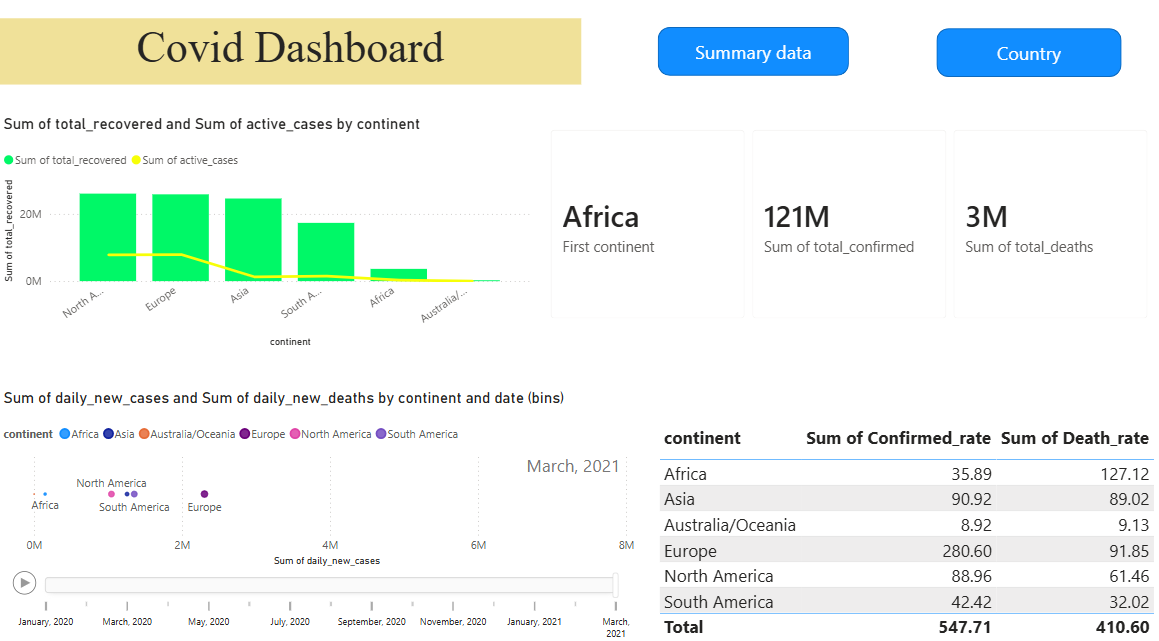

The dashboard page shown, as its layout file describes it:
{"tool":"powerbi","page":{"name":"Continent","canvas":[1280,720],"ordinal":1},"visuals":[{"type":"scatterChart","fields":{"Series":["summary_data.continent"],"X":["Sum(daily_data.daily_new_cases)"],"Size":["Sum(daily_data.daily_new_deaths)"],"Play":["daily_data.date (bins)"]},"box":[0,440.5,702.6,279.9],"z":0},{"type":"lineStackedColumnComboChart","fields":{"Category":["summary_data.continent"],"Y":["Sum(summary_data.total_recovered)"],"Y2":["Sum(summary_data.active_cases)"]},"box":[0,140,588.7,260.7],"z":1000},{"type":"cardVisual","fields":{"Data":["Min(summary_data.continent)","Sum(summary_data.total_confirmed)","Sum(summary_data.total_deaths)"]},"box":[588.7,140,691.6,241.5],"z":2000},{"type":"tableEx","fields":{"Values":["summary_data.continent","Sum(summary_data.Confirmed_rate)","Sum(summary_data.Death_rate)"]},"box":[719,474.8,561.2,245.6],"z":3000},{"type":"shape","box":[723.2,43.9,209.9,53.5],"z":4000},{"type":"shape","box":[1029.2,45.3,203.1,53.5],"z":4002},{"type":"textbox","box":[0,34.3,639.5,72.7],"z":4003}]}

Visuals, with their boxes in screenshot pixels (x1, y1, x2, y2), scaled from the page's 1280x720 canvas onto the 1159x641 screenshot:
scatterChart - summary_data.continent x Sum(daily_data.daily_new_cases): detection(0, 392, 636, 640)
lineStackedColumnComboChart - summary_data.continent x Sum(summary_data.total_recovered): detection(0, 125, 533, 357)
cardVisual - Min(summary_data.continent) x Sum(summary_data.total_confirmed): detection(533, 125, 1158, 340)
tableEx - summary_data.continent x Sum(summary_data.Confirmed_rate): detection(651, 423, 1158, 640)
shape: detection(655, 39, 845, 87)
shape: detection(932, 40, 1116, 88)
textbox: detection(0, 31, 579, 95)
